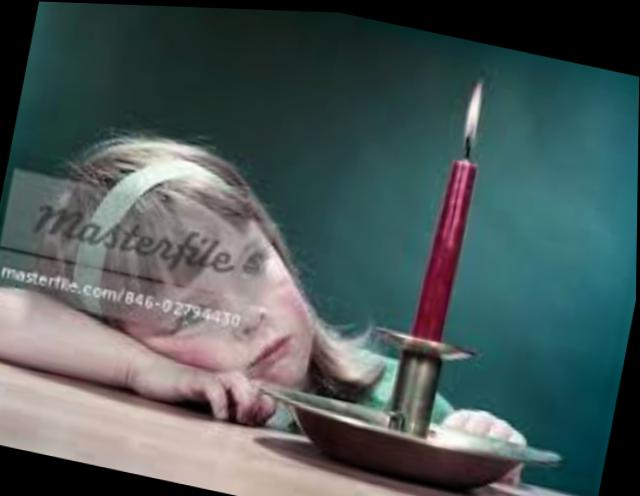fire: (442, 63, 511, 168)
